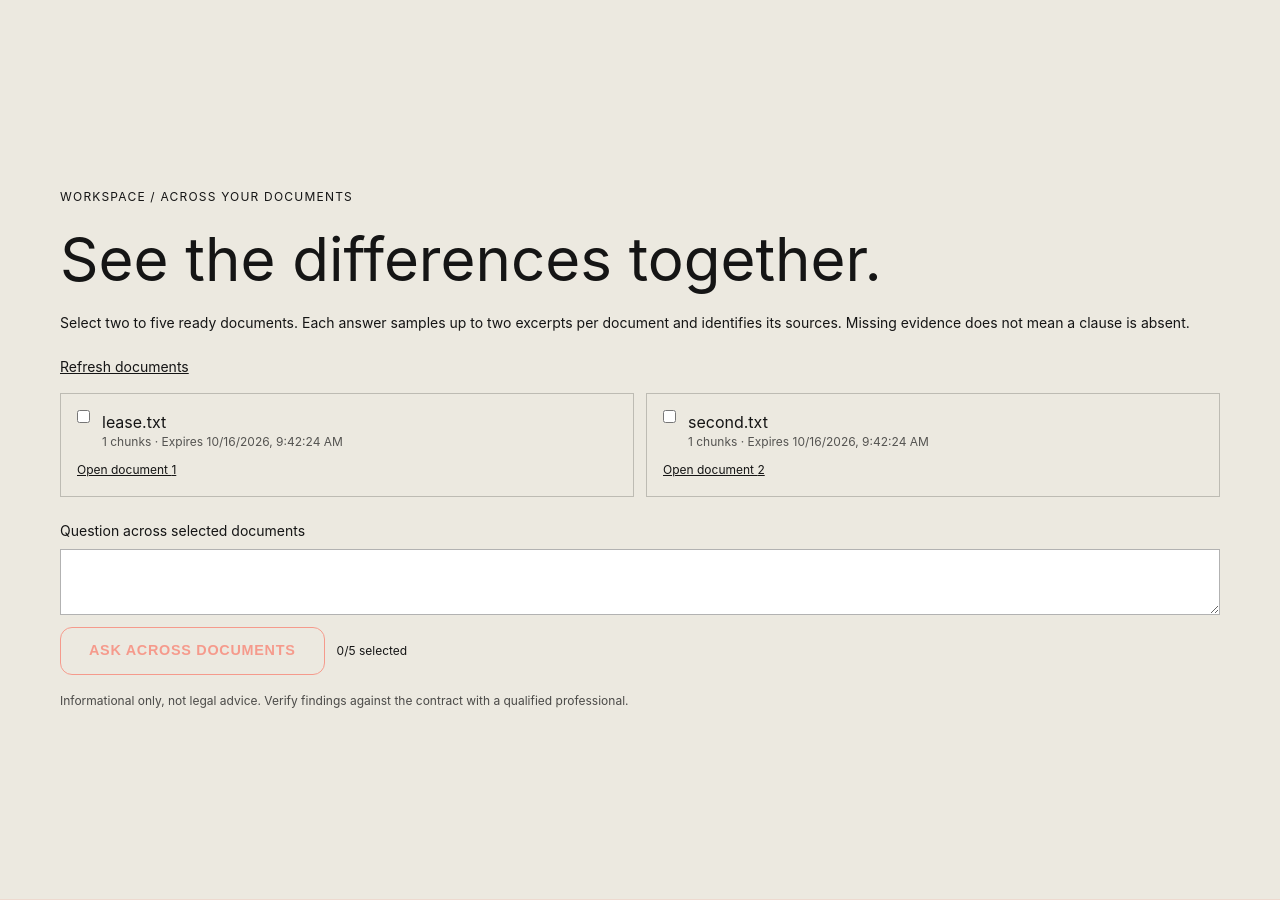
Test: requires two selected documents and clears answers when selection changes
This screenshot has width=1280, height=900.
Expected: the text "second.txt" is shown, [688,412,768,432]
Type "Compare rent" into the text box labelled "Question across selected documents".
click(640, 582); type("Compare rent")  # box [60,549,1220,615]
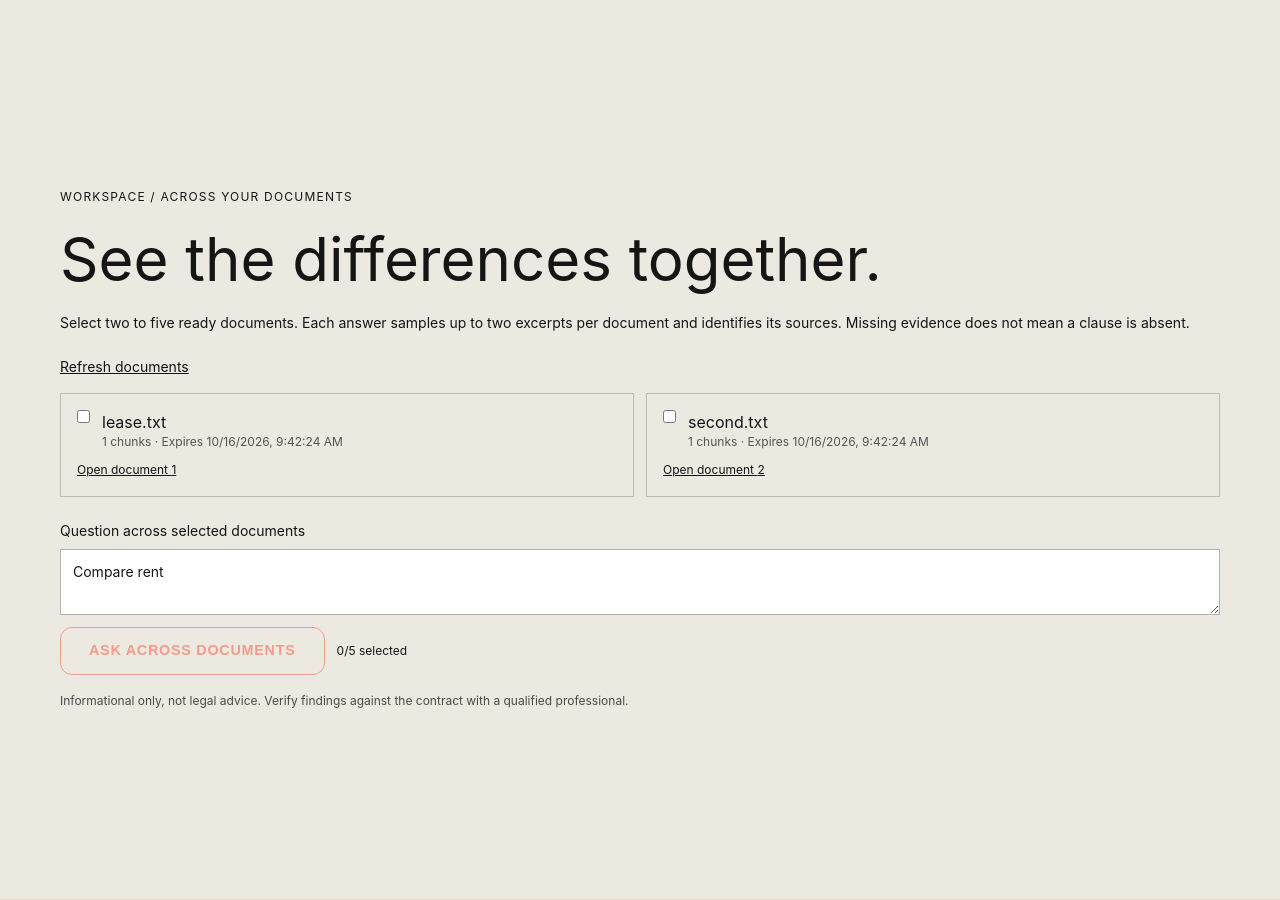
Click the checkbox labelled "lease.txt 1 chunks · Expires 10/16/2026, 9:42:24 AM".
click(84, 416)  # box [77,410,90,423]
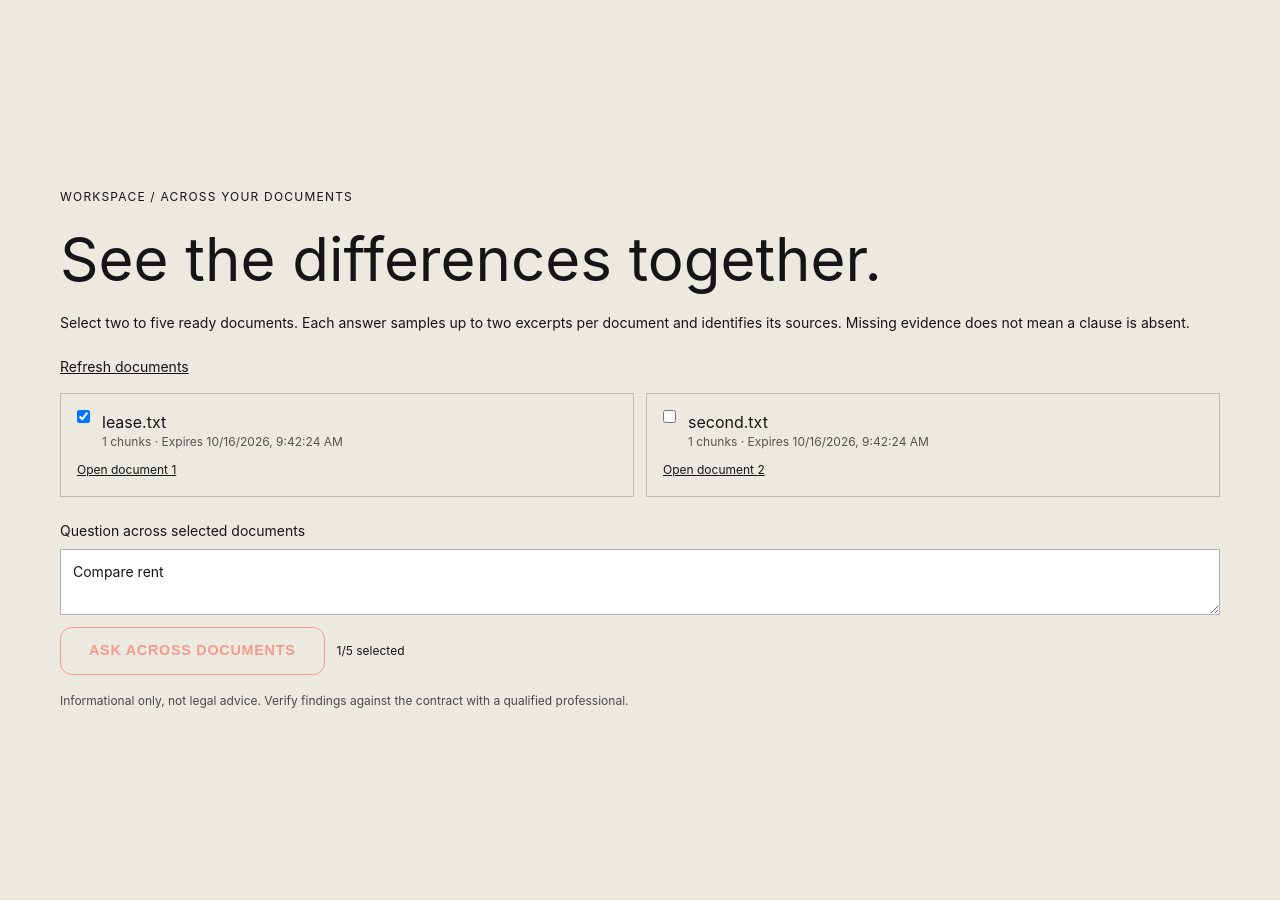
Expected: the button "Ask across documents" is disabled, [60,627,325,674]
Click the checkbox labelled "second.txt 1 chunks · Expires 10/16/2026, 9:42:24 AM".
click(670, 416)  # box [663,410,676,423]
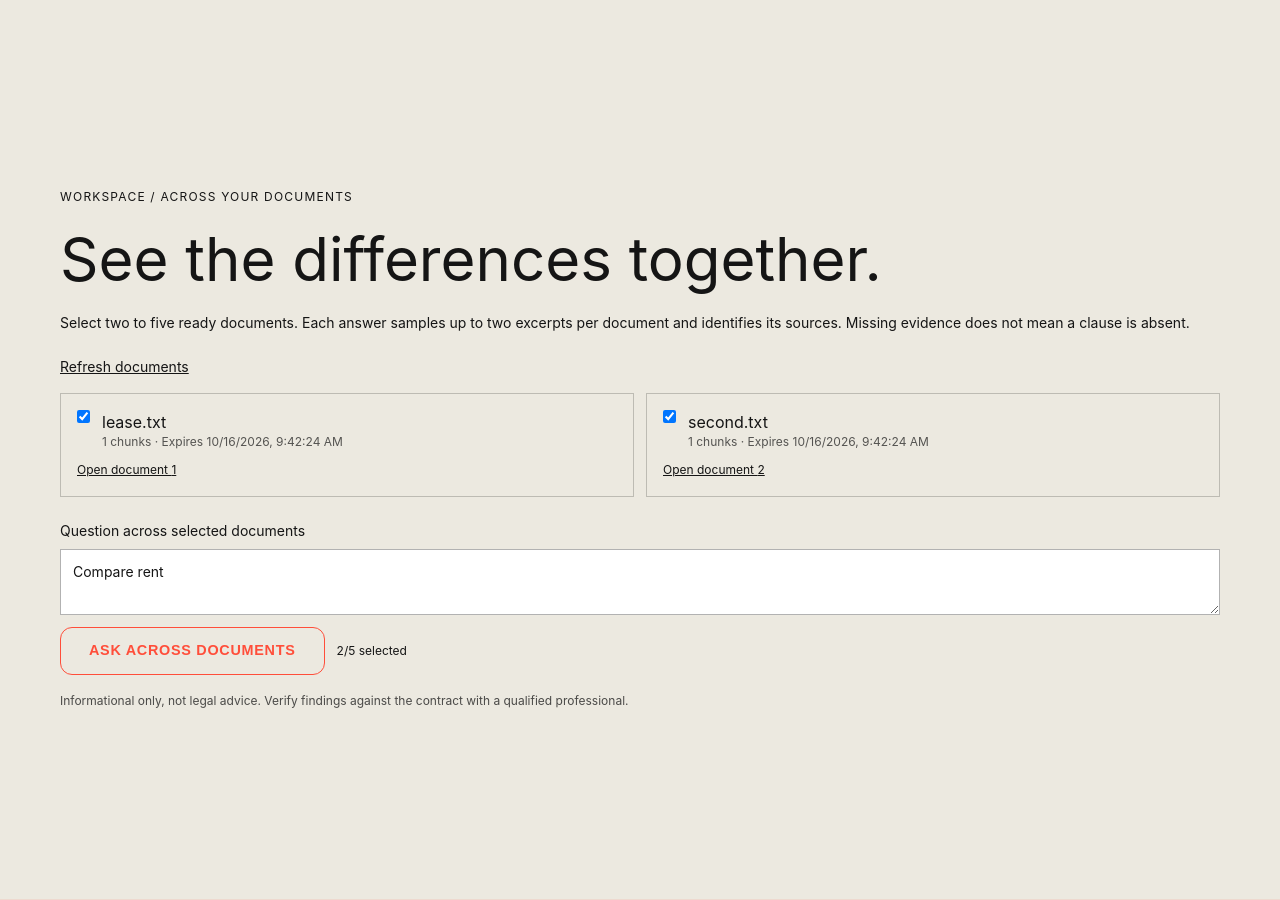
Click the button "Ask across documents".
click(192, 651)  # box [60,627,325,674]
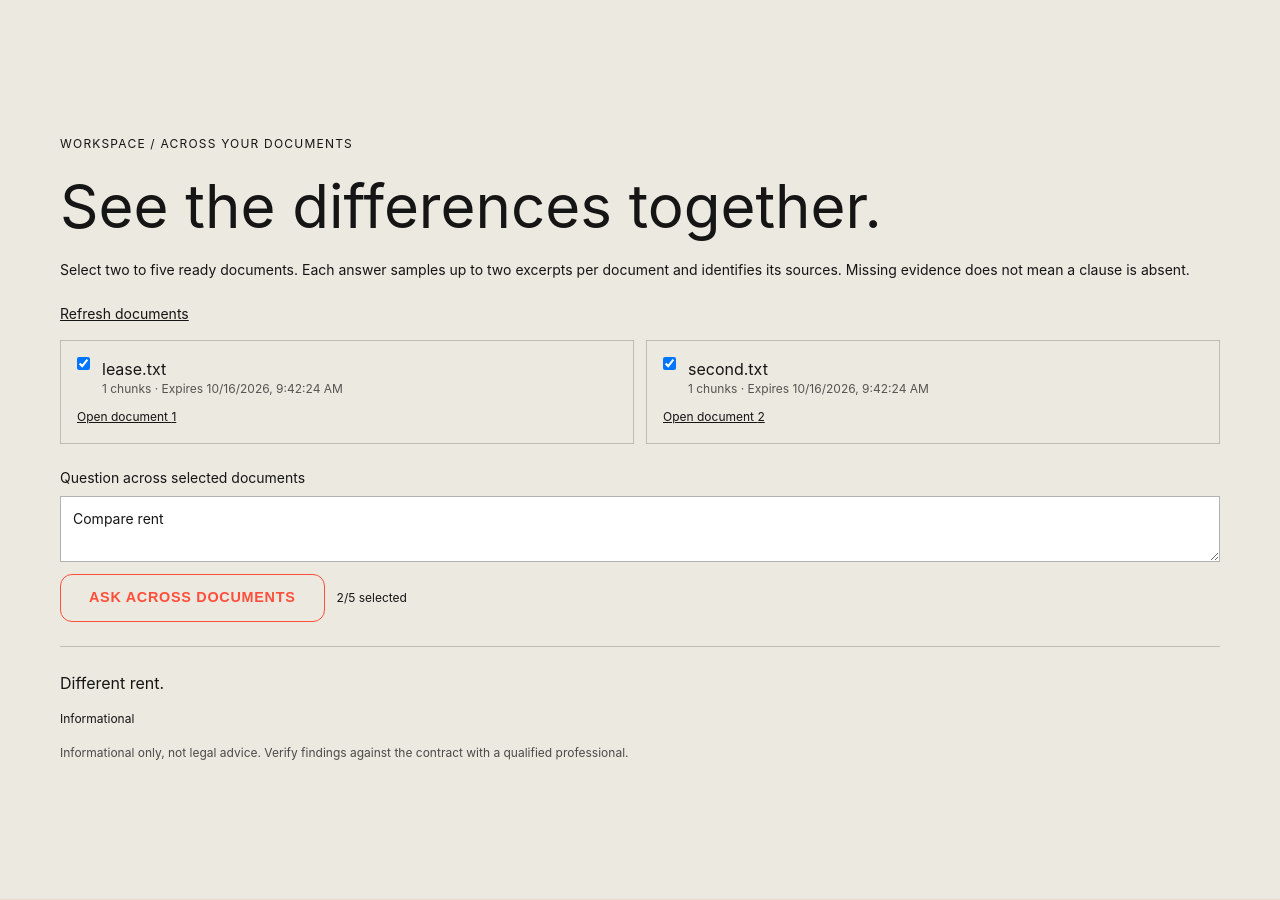
Expected: the text "Different rent." is shown, [60,673,164,693]
Click the checkbox labelled "lease.txt 1 chunks · Expires 10/16/2026, 9:42:24 AM".
click(84, 364)  # box [77,357,90,370]
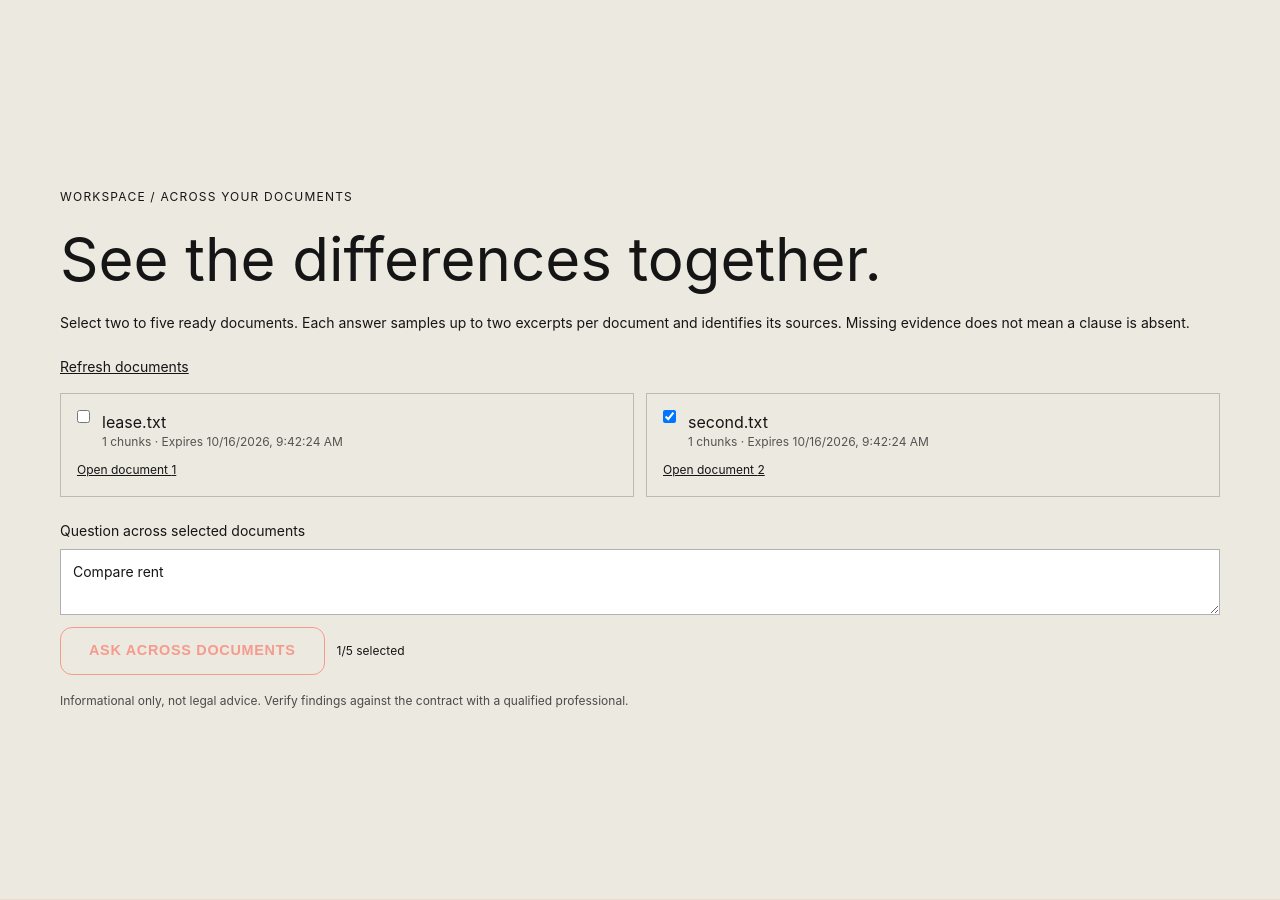
Expected: the text "Different rent." is gone
